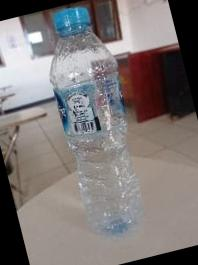Plastik: (50, 6, 144, 234)
